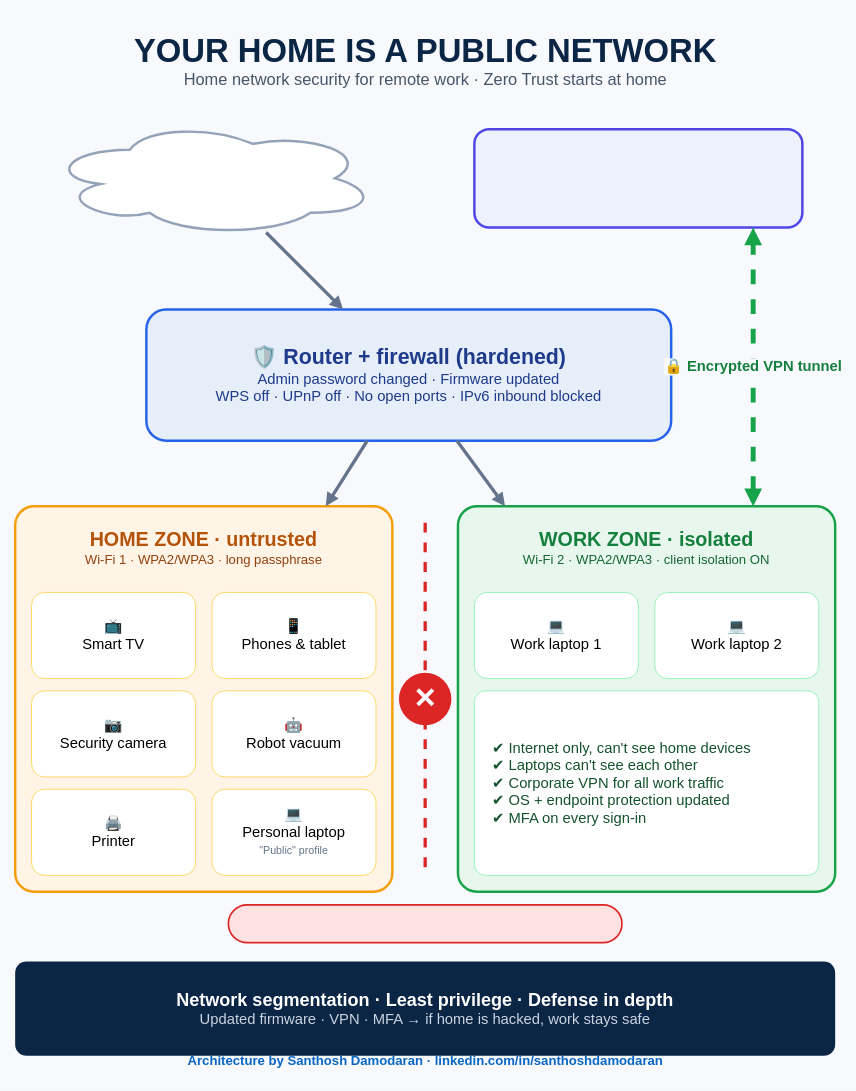
This 856x1091 diagram has some shape labels left out. The shapes that lost their labels are listed below. From the top down, each one's centre as x and y in pixels, then its label:
At (x=211, y=178): "🌐 Internet untrusted by default".
At (x=638, y=178): "🏢 Corporate network / Cloud Entra ID · MFA · Conditional Access".
At (x=424, y=923): "No lateral movement between zones".
